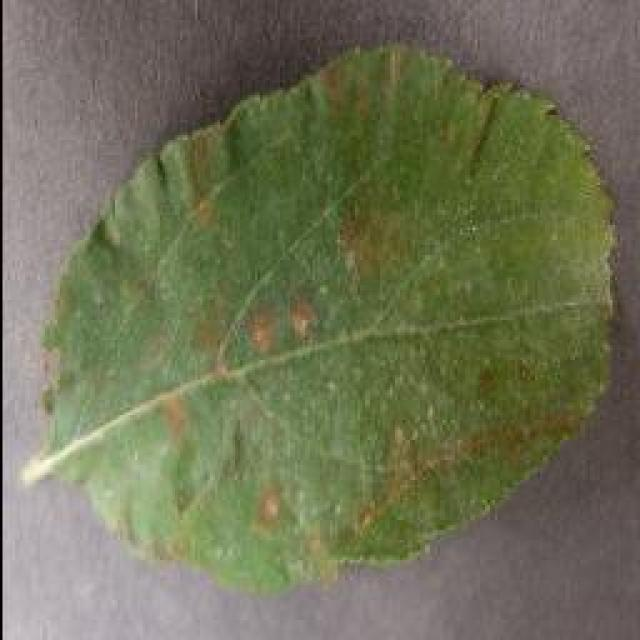apple cedar apple rust: (25, 38, 623, 598)
